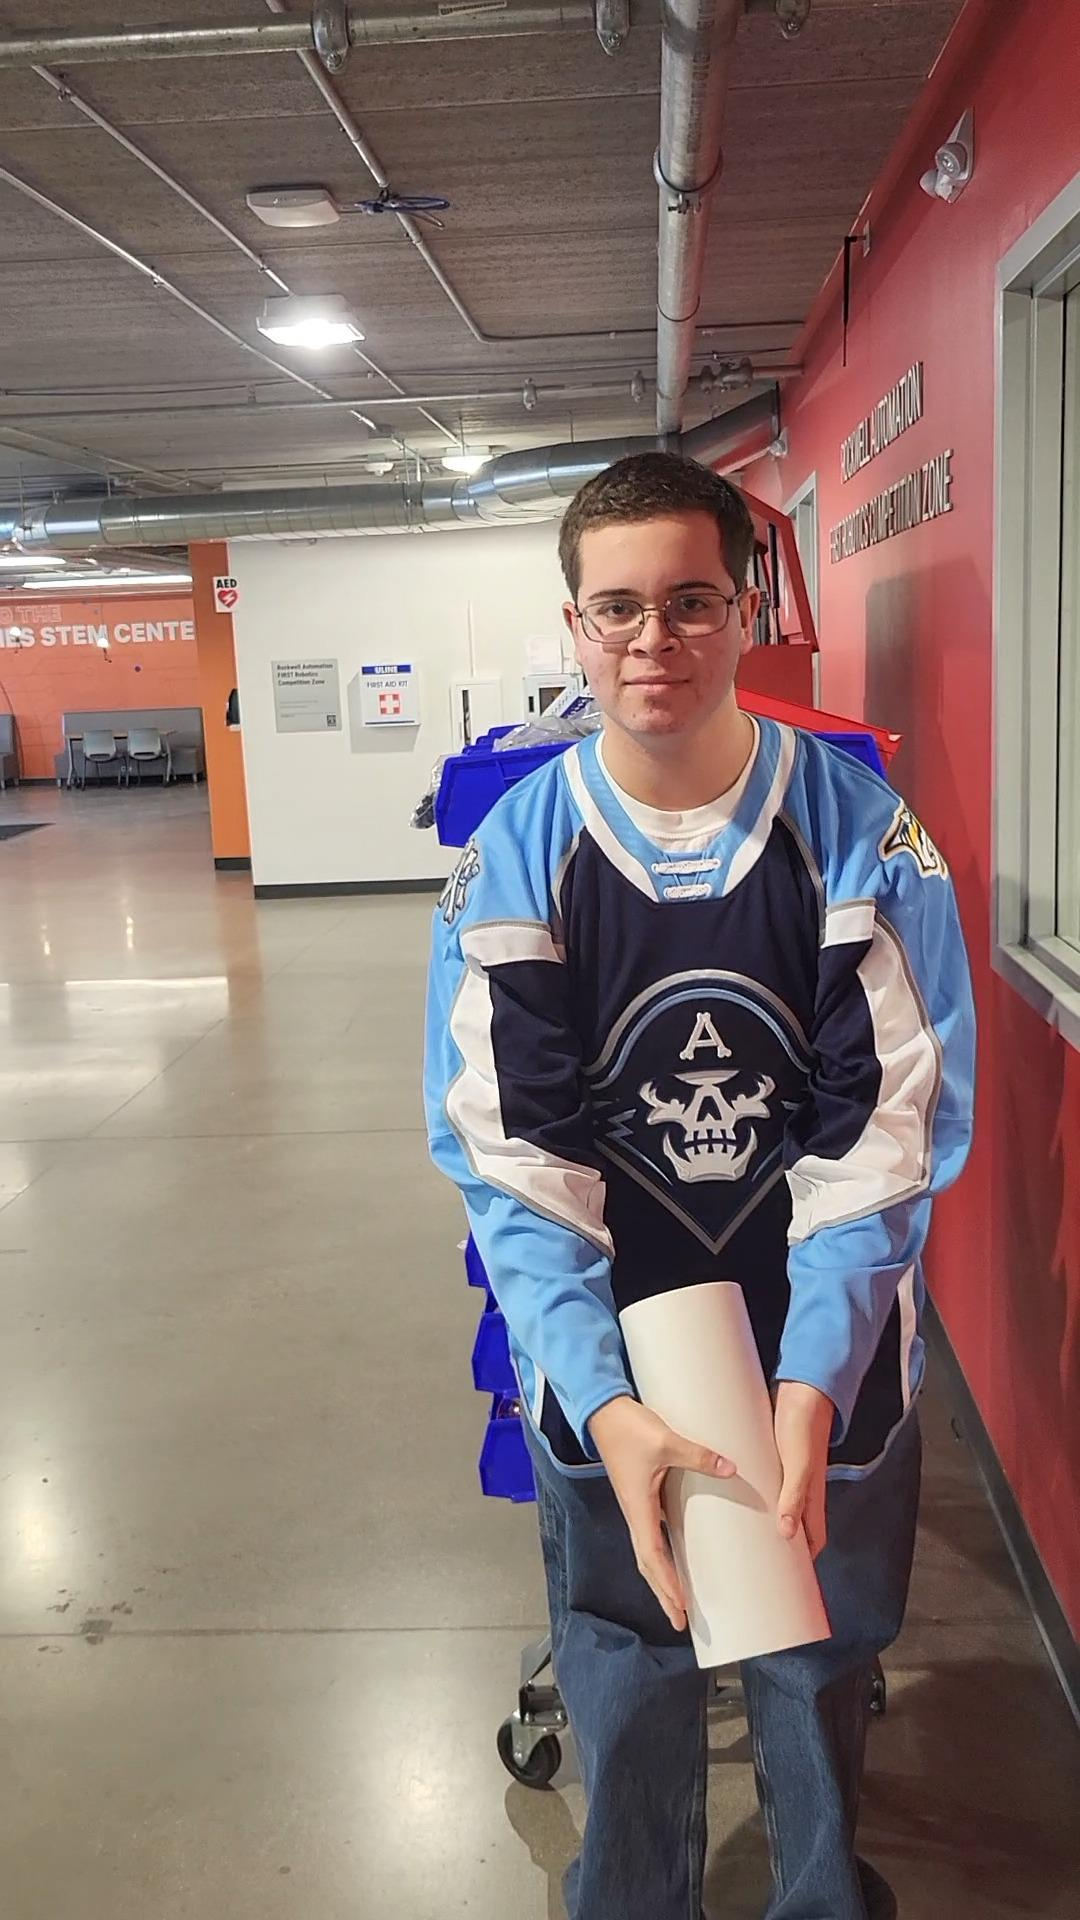coral: (624, 1284, 836, 1680)
